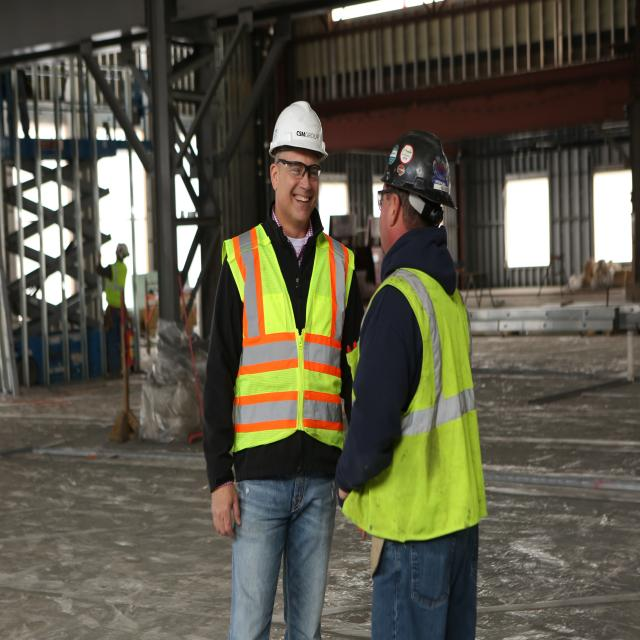Reflective-Jacket: (353, 267, 490, 540), (218, 222, 356, 460)
Safety-Helmet: (378, 124, 460, 212), (266, 94, 330, 162)
